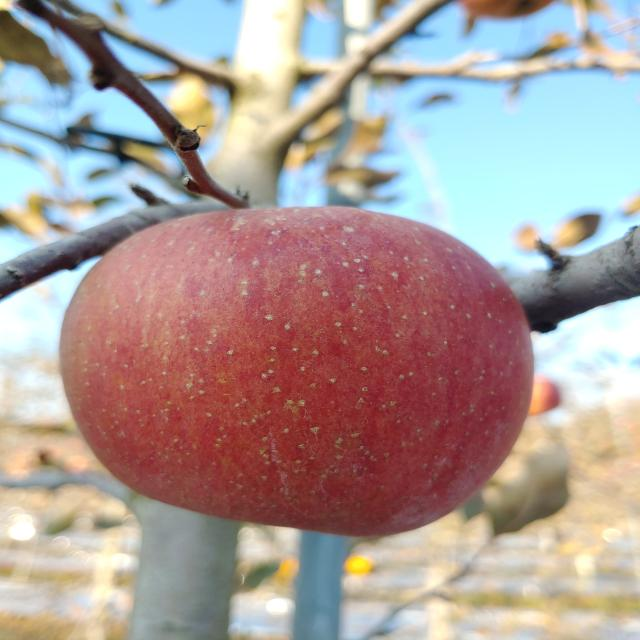fresh: (54, 194, 544, 549)
